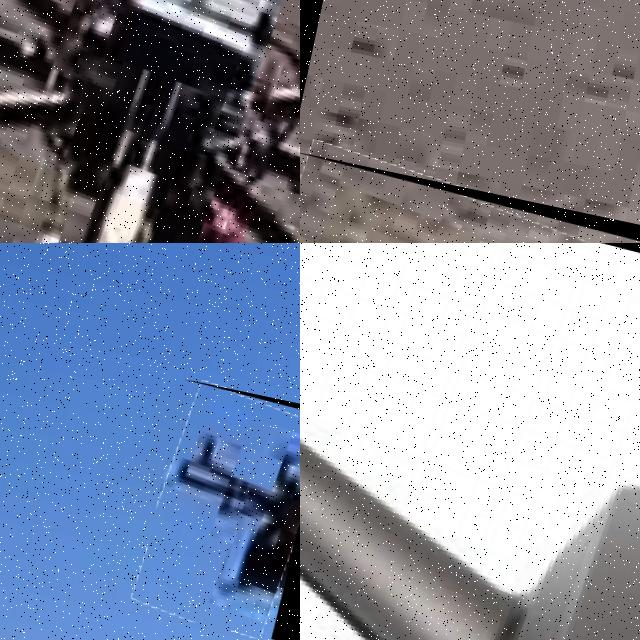drone: (300, 243, 640, 640), (0, 0, 300, 243), (133, 379, 300, 640), (300, 150, 640, 243)
